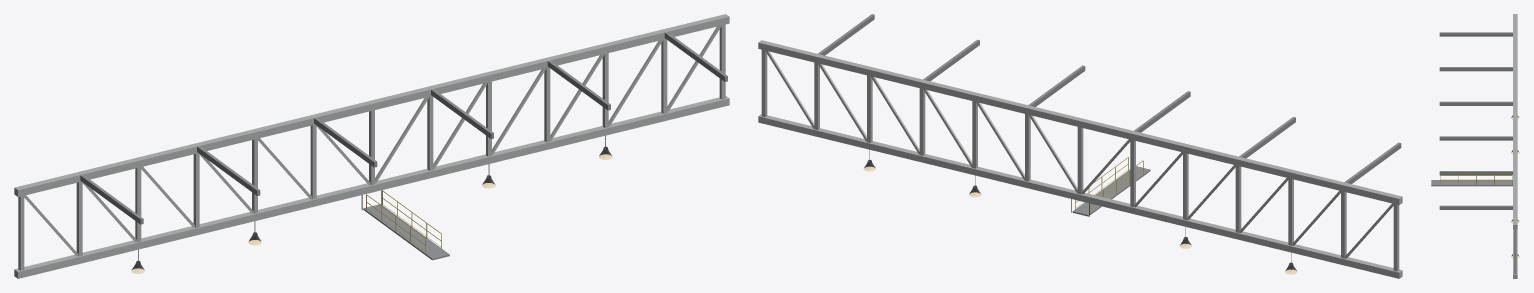
File: truss_6.glb
3 renders of one model, left to right at view 1: azimuth 30°, elevation 25°; view 2: azimuth 150°, elevation 25°; view 3: azimuth 270°, elevation 25°, orthographic. The views are drawn at different scales.
Visible parts, largest first — view 1: truss_6; view 2: truss_6; view 3: truss_6.
Part boxes in pixels (x1,y1,x2,y2): truss_6: (14,14,729,278); truss_6: (758,14,1402,278); truss_6: (1431,14,1519,278).
Bounding box in the file's own units: 48.7 × 7.36 × 8.63.
